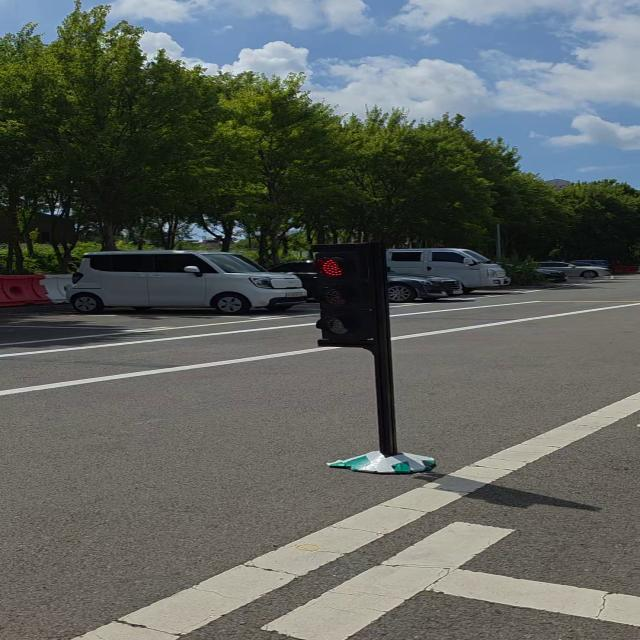red: (310, 242, 382, 346)
